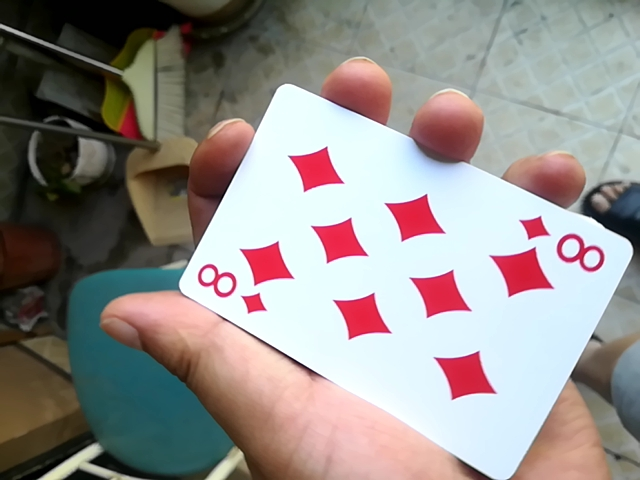fk 8: (166, 82, 632, 474)
